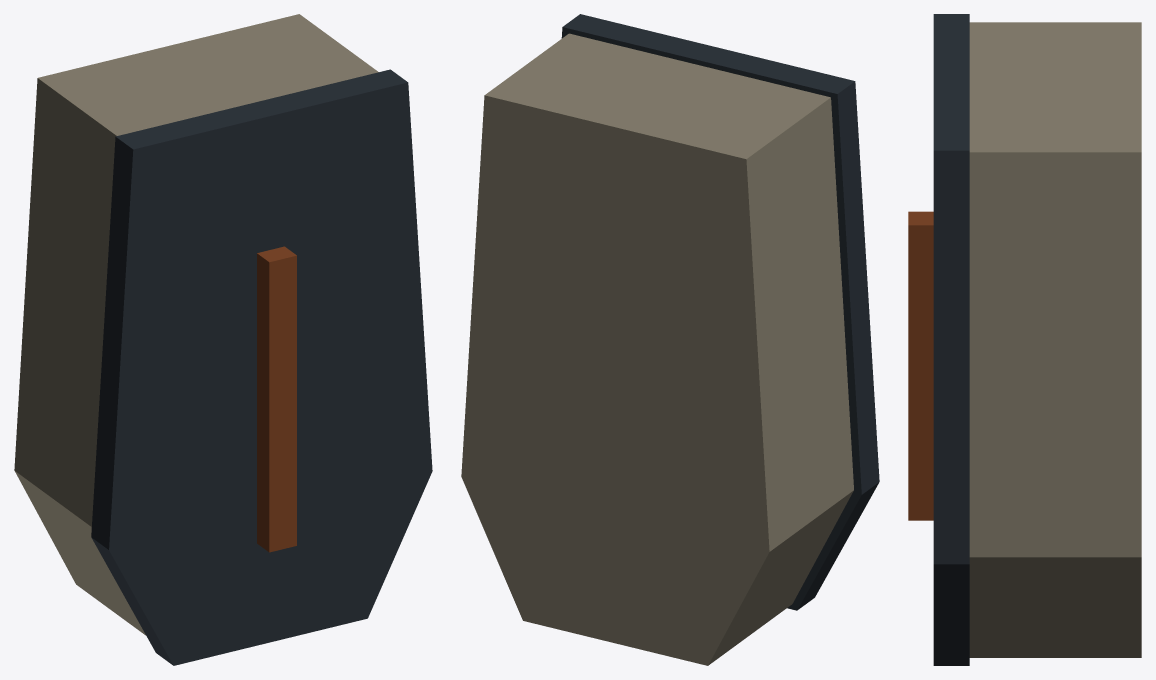
The model's file is SM_AEON_Sarcophagus.obj.
3 renders of one model, left to right at view 1: azimuth 30°, elevation 25°; view 2: azimuth 150°, elevation 25°; view 3: azimuth 270°, elevation 25°, orthographic.
Parts seen in each view (by area): view 1: SM_AEON_Sarcophagus; view 2: SM_AEON_Sarcophagus; view 3: SM_AEON_Sarcophagus.
Boxes of the visible parts, x1,y1,x2,y2 form: SM_AEON_Sarcophagus: (14,14,432,665); SM_AEON_Sarcophagus: (461,14,879,665); SM_AEON_Sarcophagus: (908,14,1141,665).
Bounding box in the file's own units: 210 × 326 × 129.
